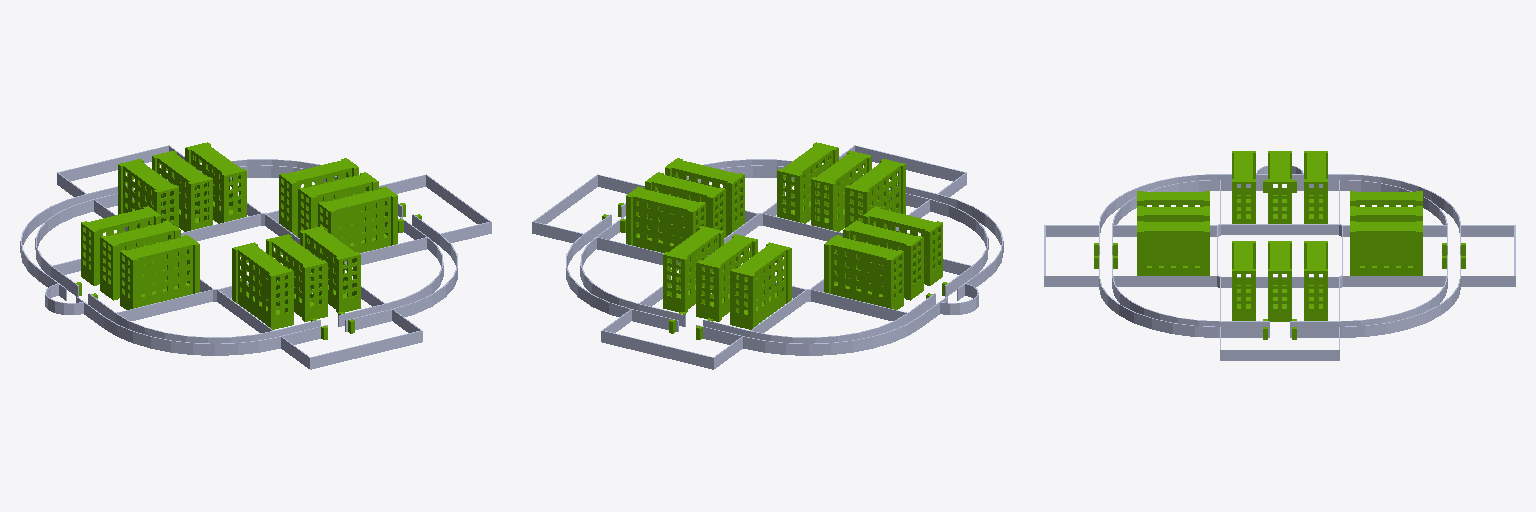
robot.urdf — 10_22outside:
<?xml version="1.0" encoding="utf-8"?>
<!-- This URDF was automatically created by SolidWorks to URDF Exporter! Originally created by [author] ([email redacted]) 
     Commit Version: 1.6.0-4-g7f85cfe  Build Version: 1.6.7995.38578
     For more information, please see http://wiki.ros.org/sw_urdf_exporter -->
<robot
  name="10_22outside">
  <link
    name="base_link">
    <inertial>
      <origin
        xyz="84.4335841028867 -1.67939986132453E-13 2.5"
        rpy="0 0 0" />
      <mass
        value="4484413.02210824" />
      <inertia
        ixx="12727567802.556"
        ixy="-2.91436447932832E-05"
        ixz="5.4931635034149E-07"
        iyy="7044982325.57827"
        iyz="2.10804263755649E-08"
        izz="19753865073.8754" />
    </inertial>
    <visual>
      <origin
        xyz="0 0 0"
        rpy="0 0 0" />
      <geometry>
        <mesh
          filename="package://10_22outside/meshes/base_link.STL" />
      </geometry>
      <material
        name="">
        <color
          rgba="0.792156862745098 0.819607843137255 0.933333333333333 1" />
      </material>
    </visual>
    <collision>
      <origin
        xyz="0 0 0"
        rpy="0 0 0" />
      <geometry>
        <mesh
          filename="package://10_22outside/meshes/base_link.STL" />
      </geometry>
    </collision>
  </link>
  <link
    name="Empty_Link">
    <inertial>
      <origin
        xyz="81.2001557000657 6.33535012468957E-14 6.47019507806598"
        rpy="0 0 0" />
      <mass
        value="15188176" />
      <inertia
        ixx="1574790314.05357"
        ixy="-2.06198995783421E-06"
        ixz="-3.95609131451899E-07"
        iyy="1574790314.05357"
        iyz="2.77283463914843E-07"
        izz="1487195938.02667" />
    </inertial>
    <visual>
      <origin
        xyz="0 0 0"
        rpy="0 0 0" />
      <geometry>
        <mesh
          filename="package://10_22outside/meshes/Empty_Link.STL" />
      </geometry>
      <material
        name="">
        <color
          rgba="0.447058823529412 0.729411764705882 0.0509803921568627 1" />
      </material>
    </visual>
    <collision>
      <origin
        xyz="0 0 0"
        rpy="0 0 0" />
      <geometry>
        <mesh
          filename="package://10_22outside/meshes/Empty_Link.STL" />
      </geometry>
    </collision>
  </link>
  <joint
    name="fixed"
    type="fixed">
    <origin
      xyz="0 0 0"
      rpy="0 0 0" />
    <parent
      link="base_link" />
    <child
      link="Empty_Link" />
    <axis
      xyz="0 0 0" />
  </joint>
</robot>

--- What the picture shows (computed from the rendered views, not written in the file) ---
3 views of the same robot in one strip: view 1: azimuth 30°, elevation 25°; view 2: azimuth 150°, elevation 25°; view 3: azimuth 270°, elevation 25° (orthographic).
Robot: 10_22outside — 2 links, 1 joints (1 fixed); root link base_link; default pose: every joint at zero.
Links seen in each view (by area): view 1: Empty_Link, base_link; view 2: Empty_Link, base_link; view 3: Empty_Link, base_link.
Boxes of the visible links, left/top/right/bottom form: Empty_Link: left=76, top=142, right=421, bottom=339; base_link: left=20, top=145, right=491, bottom=369; Empty_Link: left=602, top=142, right=947, bottom=339; base_link: left=532, top=145, right=1003, bottom=369; Empty_Link: left=1094, top=151, right=1465, bottom=339; base_link: left=1044, top=166, right=1515, bottom=360.
Bounding box of the posed robot: 182 × 195 × 23 m (x, y, z).
Meshes: 2 distinct files referenced, 2 mesh visuals loaded (2 binary STL).